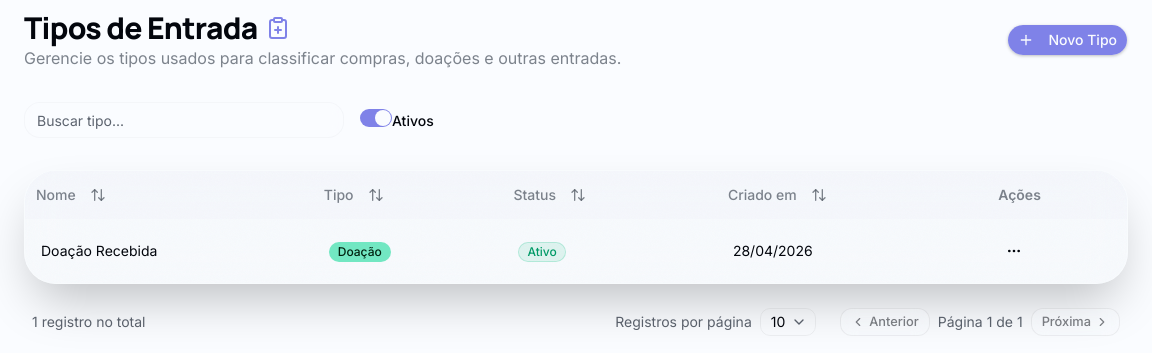
Test: TiposEntradaPage › can toggle active filter
Expected: the text "Doação Recebida" is shown, [25,219,313,283]
Click the switch at (376, 118), box [360,109,392,127]
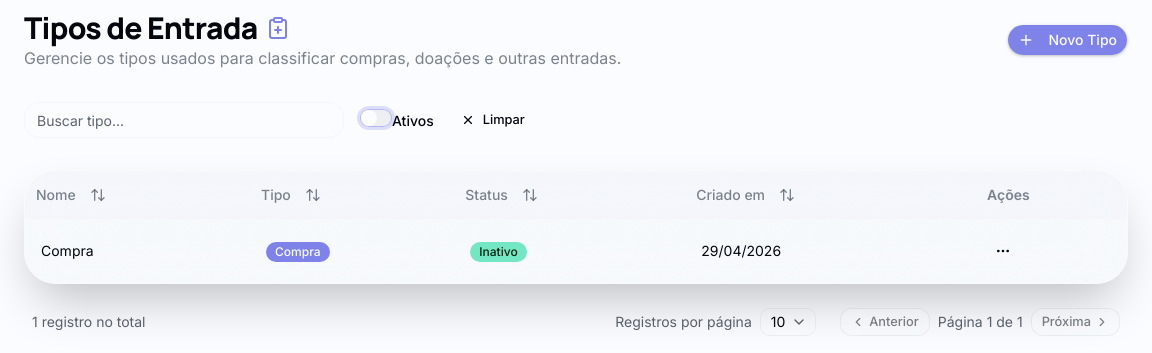
Result: the switch is not checked at [360,109,392,127]
Result: the text "Doação Recebida" is gone
